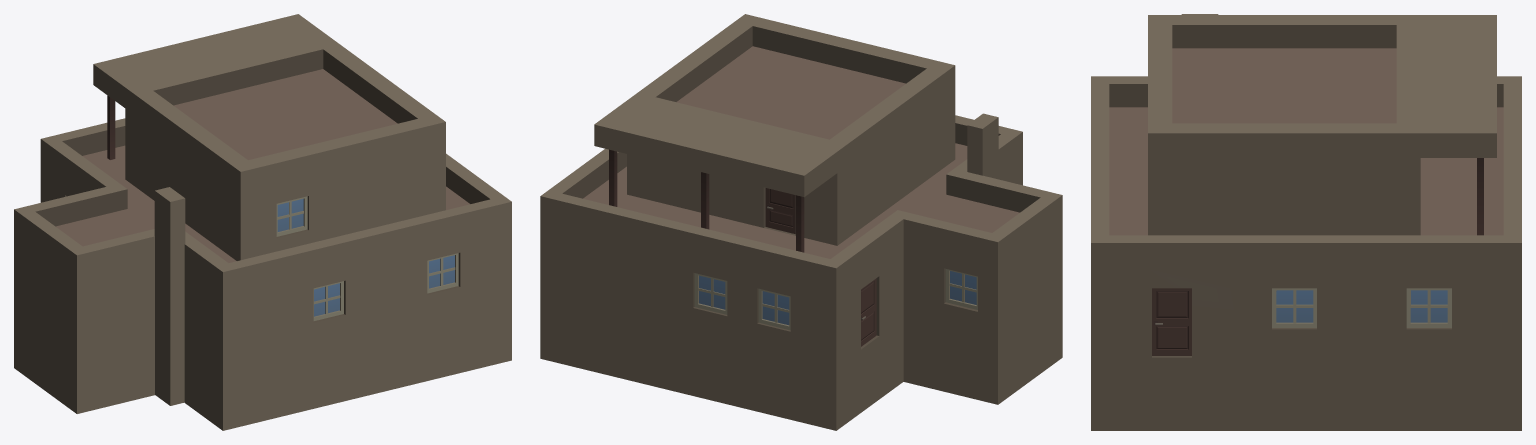
File: buildings-residential-adobehouse_v3.glb
3 views of the same model, side by side, from view 1: azimuth 30°, elevation 25°; view 2: azimuth 150°, elevation 25°; view 3: azimuth 270°, elevation 25° (orthographic). The views are drawn at different scales.
Parts seen in each view (by area): view 1: AdobeHouse_v3_base, AdobeHouse_v3_windowRefl; view 2: AdobeHouse_v3_base, AdobeHouse_v3_windowRefl; view 3: AdobeHouse_v3_base, AdobeHouse_v3_windowRefl.
Boxes of the visible parts, x1,y1,x2,y2 form: AdobeHouse_v3_base: (14, 14, 511, 430); AdobeHouse_v3_windowRefl: (277, 198, 454, 316); AdobeHouse_v3_base: (540, 14, 1062, 430); AdobeHouse_v3_windowRefl: (699, 271, 976, 325); AdobeHouse_v3_base: (1091, 14, 1521, 430); AdobeHouse_v3_windowRefl: (1276, 290, 1447, 322).
Size of the model in its own units: 22.66 by 13.12 by 18.75.
